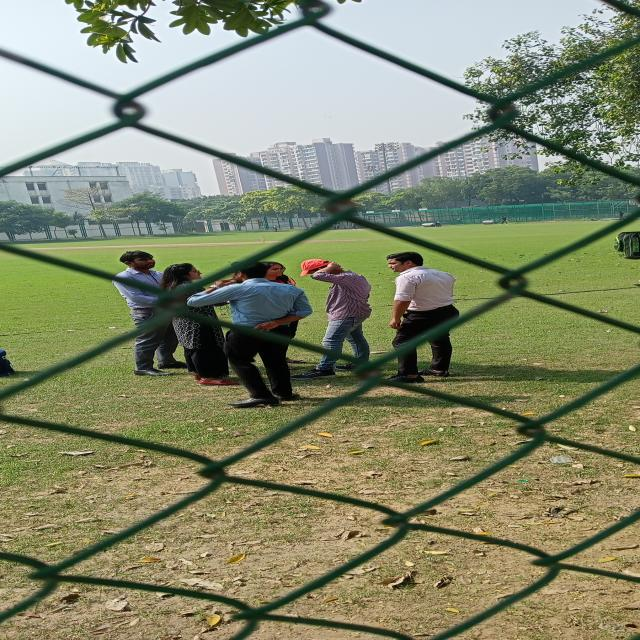unsafe: (196, 263, 307, 410), (218, 260, 312, 415), (110, 248, 194, 378), (377, 250, 456, 384), (297, 258, 375, 378), (165, 261, 237, 386)
